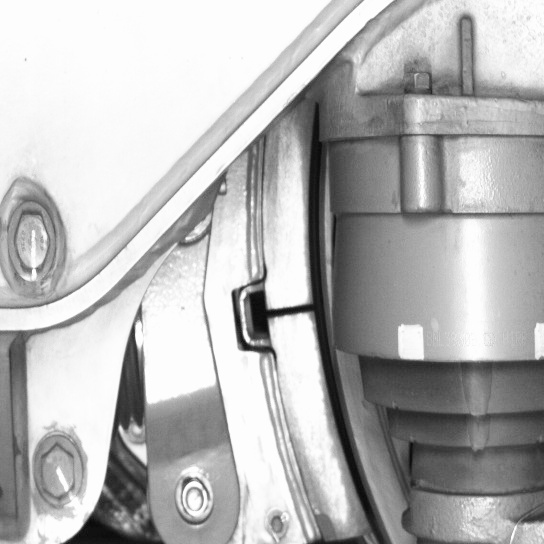KnifeSwitch: (257, 137, 396, 541)
